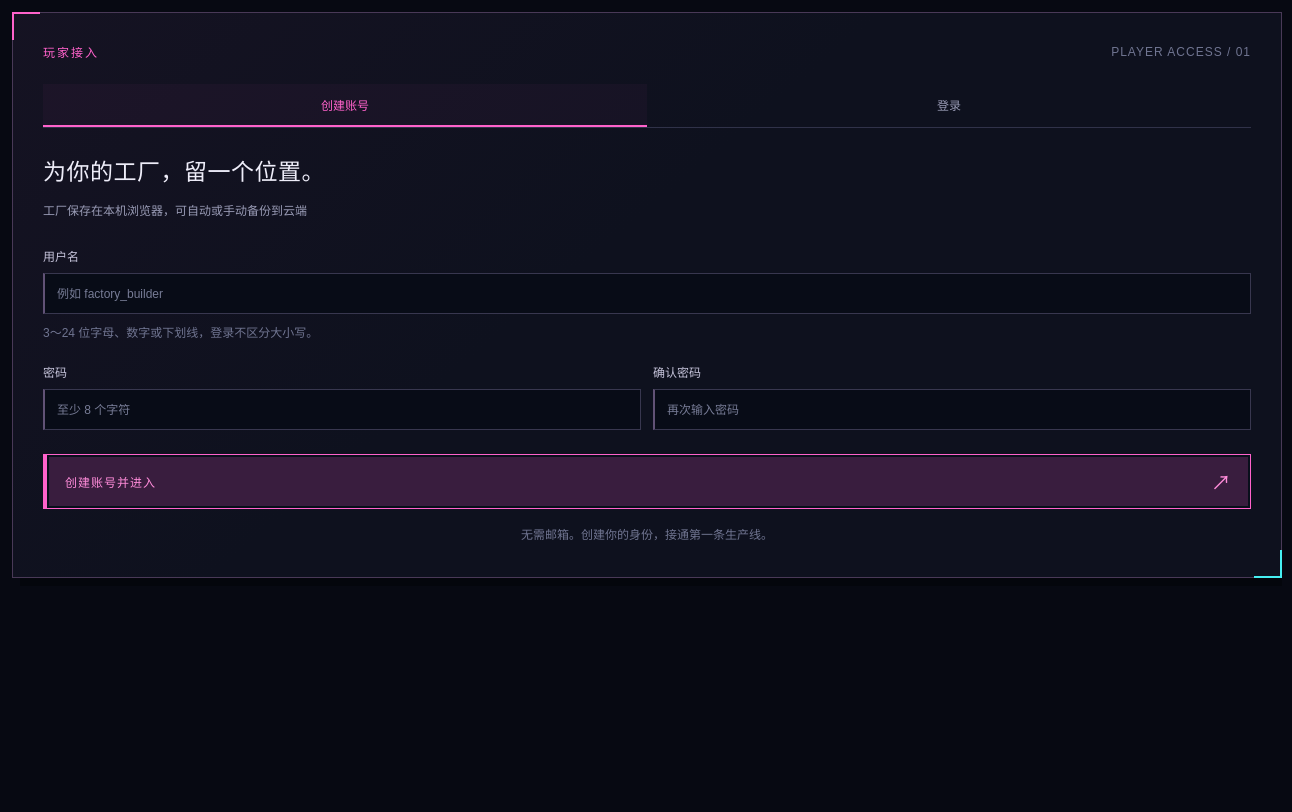
Scenario: account UI › shows login errors and allows retry
Check: the heading "为你的工厂，留一个位置。" is shown, box left=43, top=159, right=325, bottom=185
Click the button "登录".
click(949, 106)  # box left=647, top=84, right=1251, bottom=127
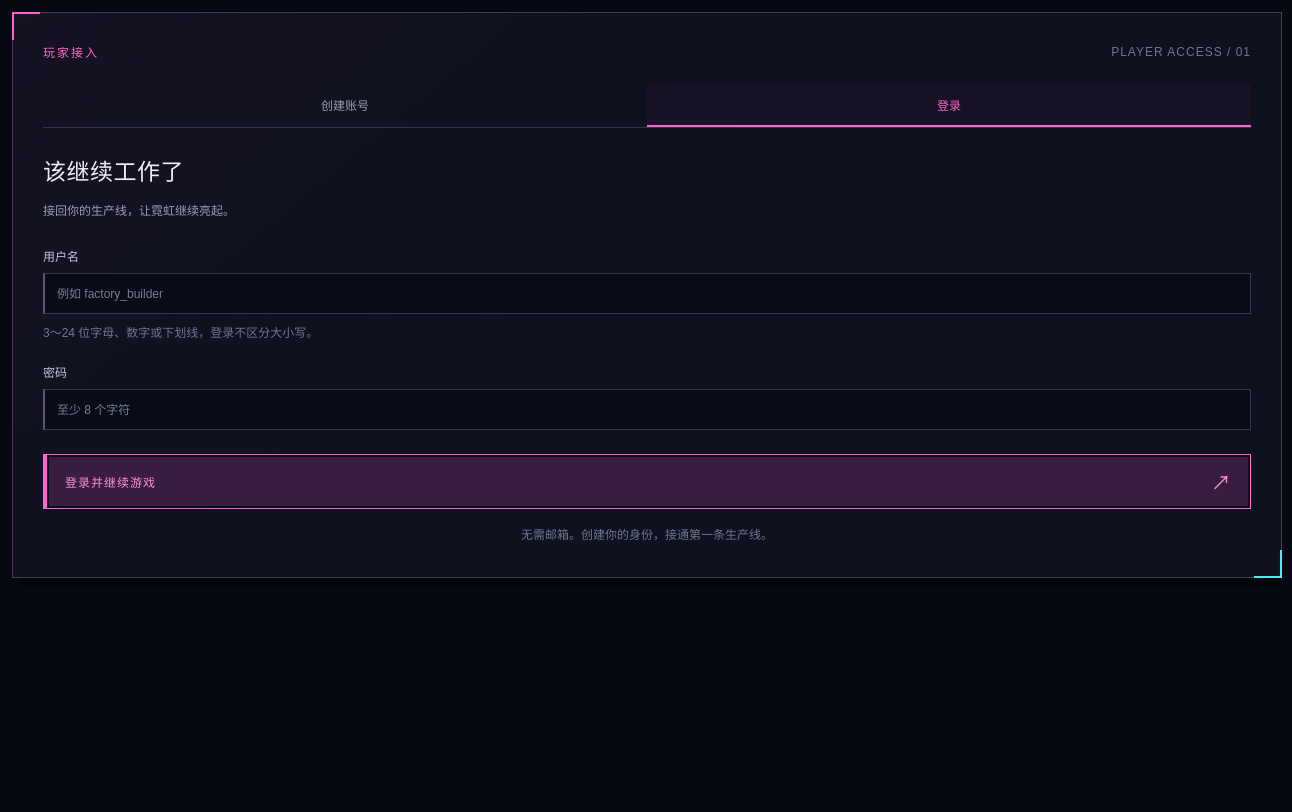
Type "factory_user" into the field labelled "用户名".
click(647, 294); type("factory_user")  # box left=43, top=273, right=1251, bottom=314
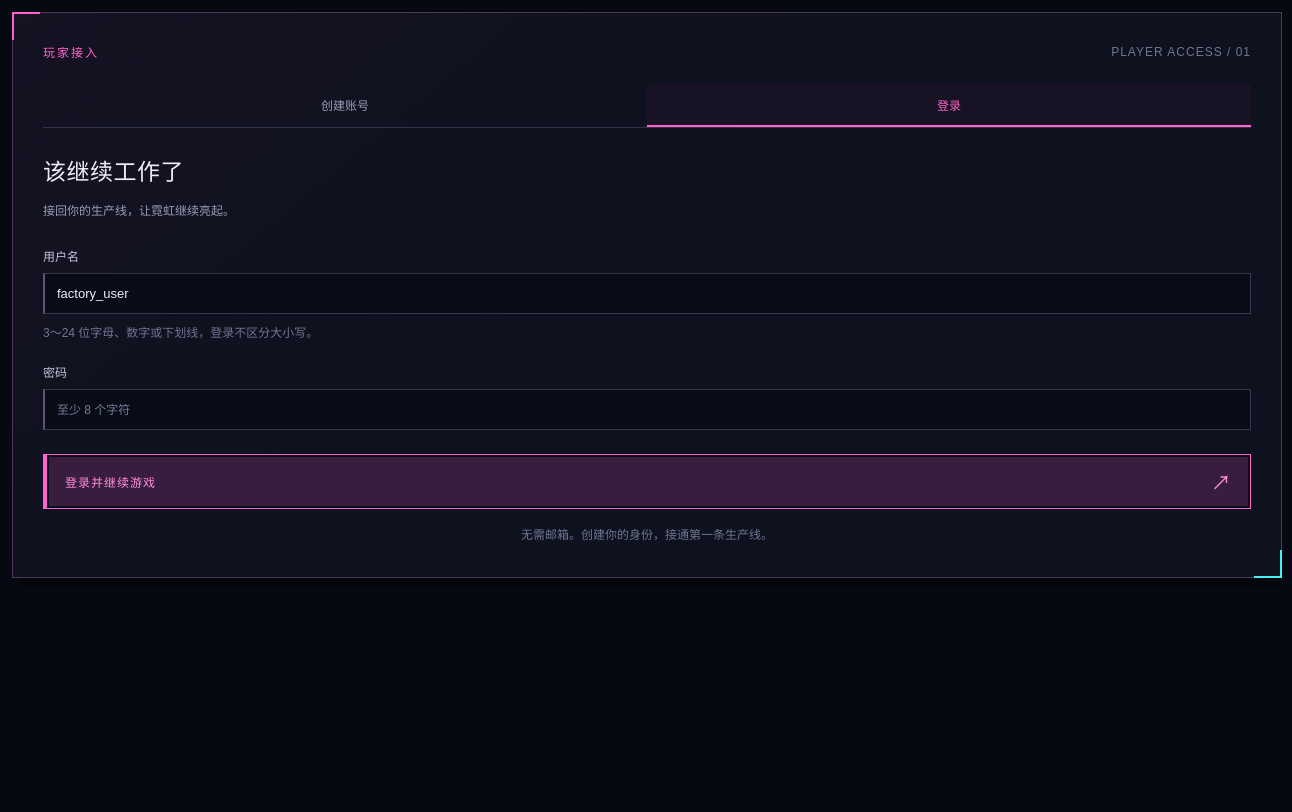
Type "correct-password" into the password field labelled "密码".
click(647, 410); type("correct-password")  # box left=43, top=389, right=1251, bottom=430
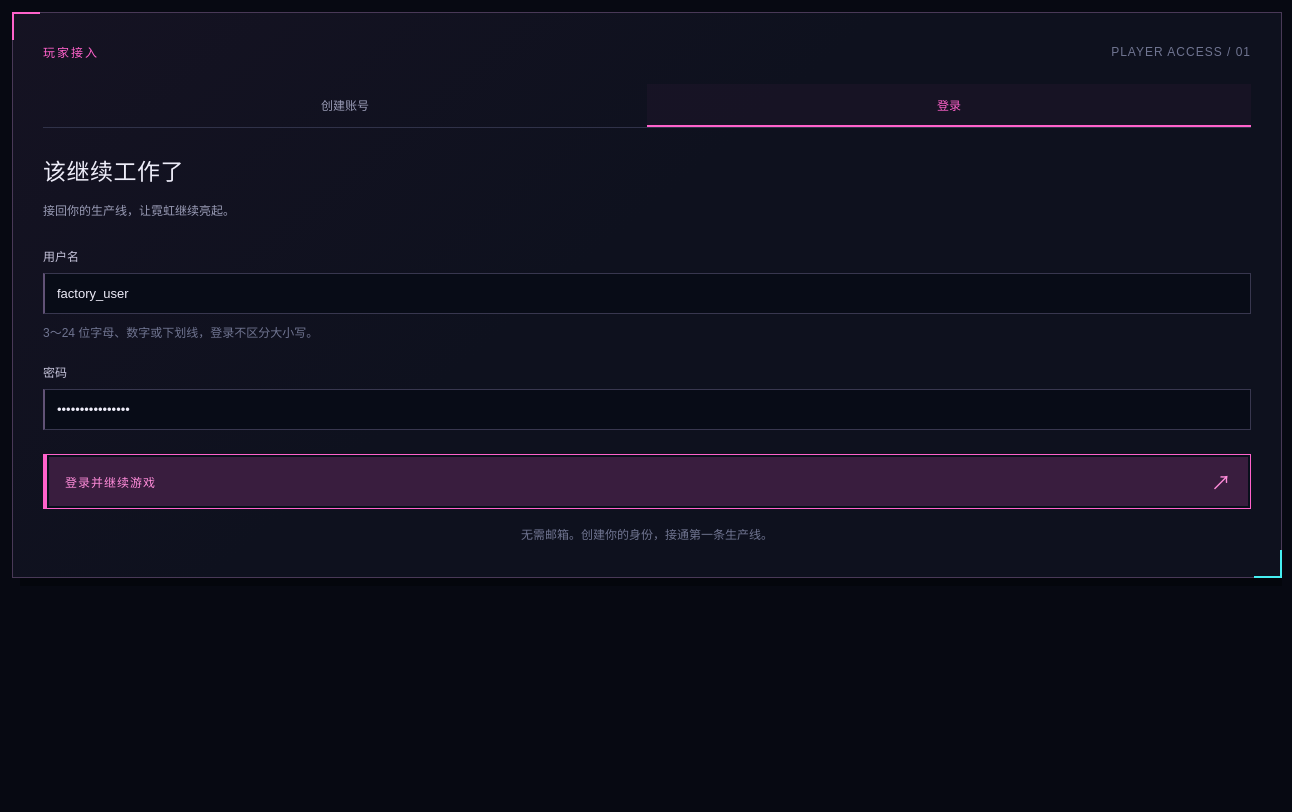
Click the button "登录并继续游戏 ↗".
click(111, 483)  # box left=43, top=454, right=1251, bottom=509
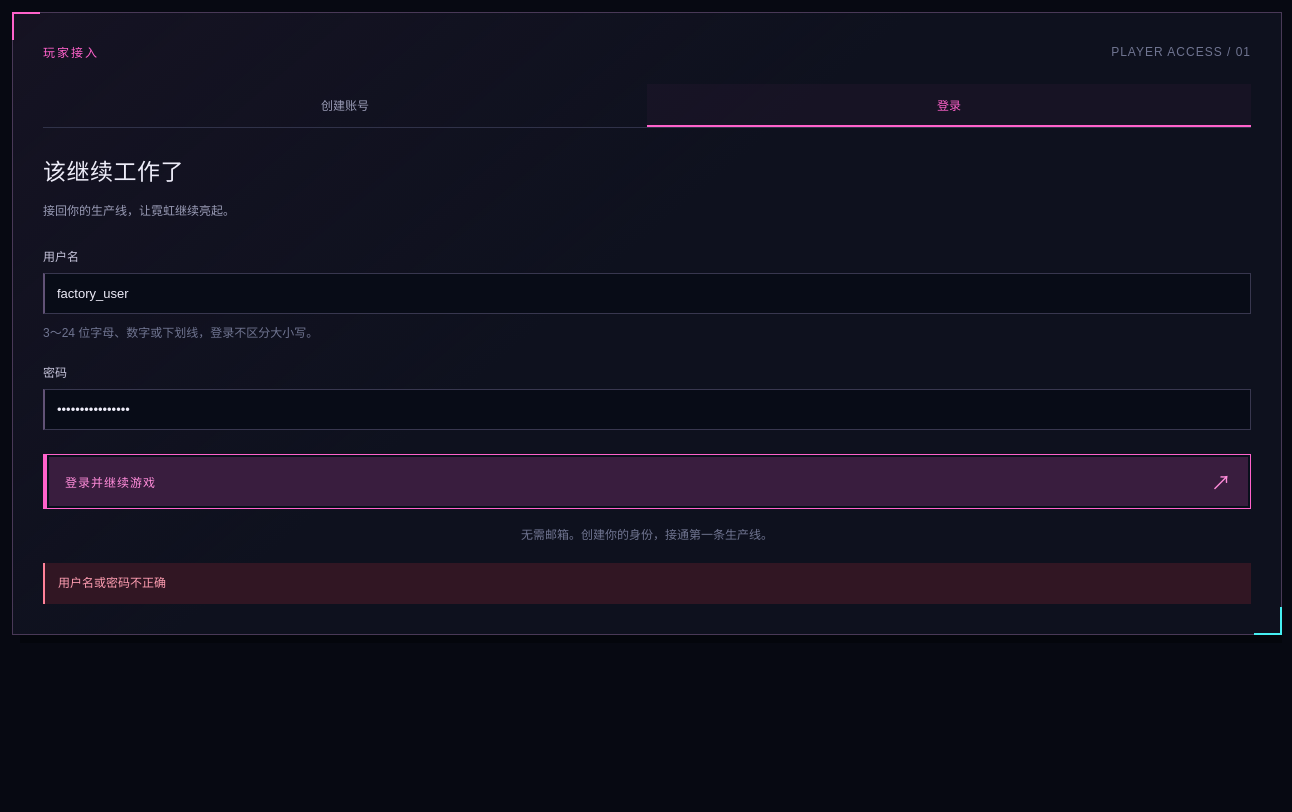
Check: the message reads "用户名或密码不正确", box left=58, top=576, right=166, bottom=590
Click the button "登录并继续游戏 ↗".
click(111, 483)  # box left=43, top=454, right=1251, bottom=509
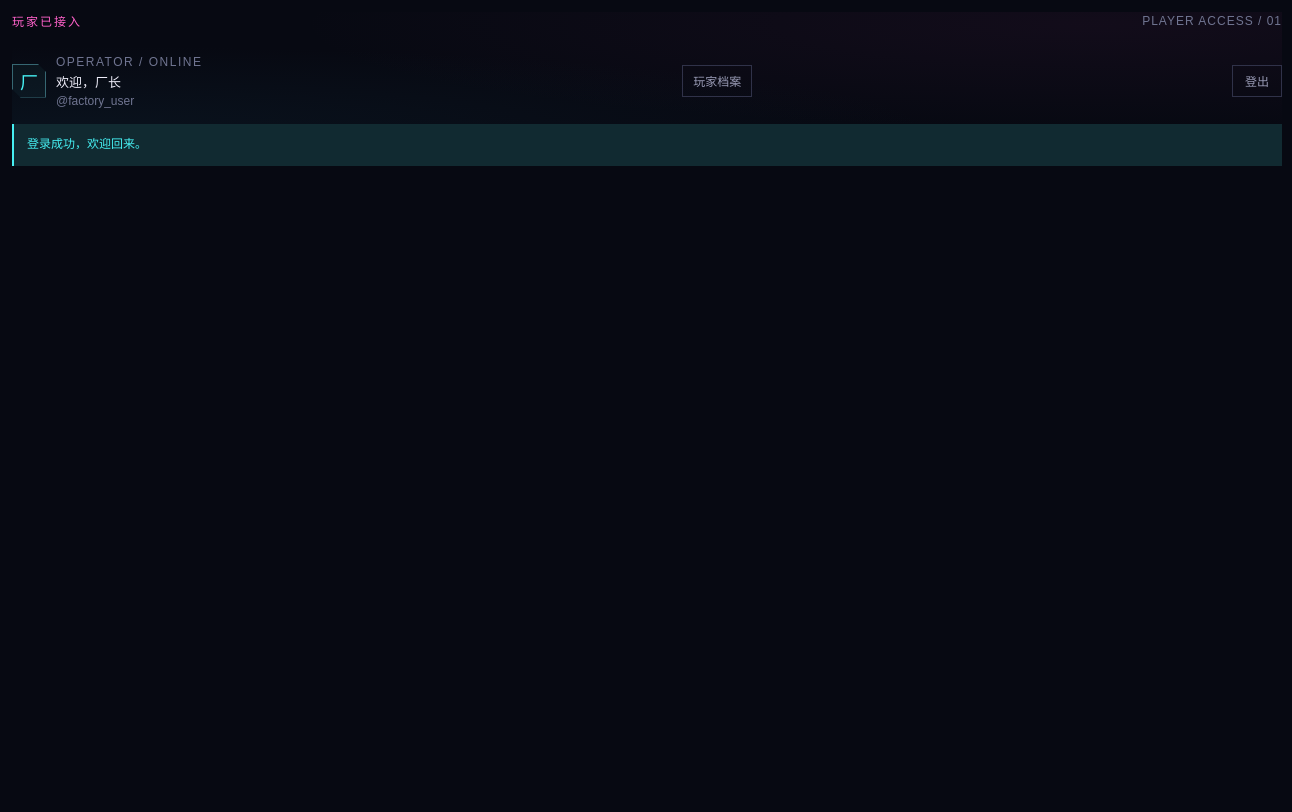
Check: the heading "欢迎，厂长" is shown, box left=56, top=75, right=121, bottom=90
